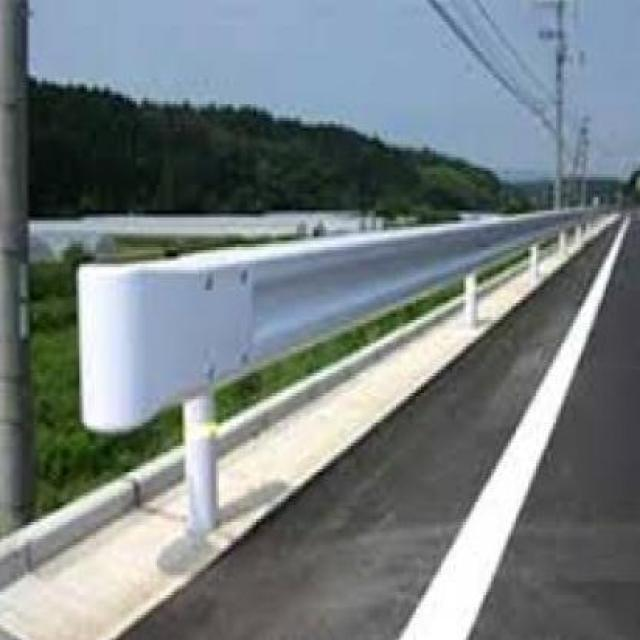Guard rail: (72, 191, 608, 562)
